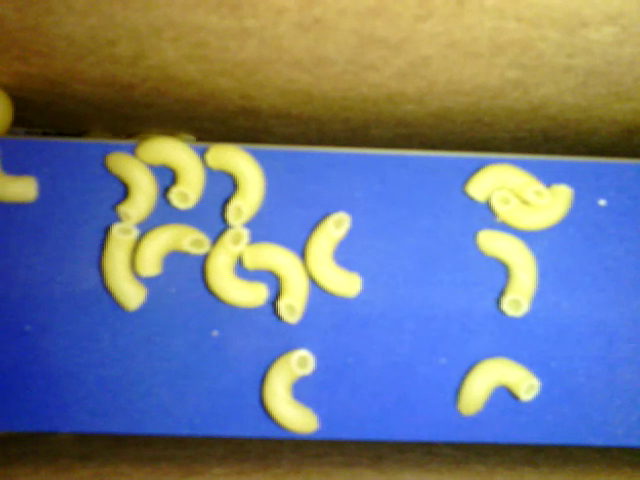elbow: (474, 226, 539, 321), (241, 241, 310, 329), (203, 226, 271, 312), (455, 354, 542, 418), (134, 135, 206, 211), (306, 209, 363, 303), (261, 347, 321, 436), (207, 141, 265, 227), (133, 223, 213, 281), (102, 222, 150, 316), (105, 151, 160, 226), (489, 185, 576, 229), (461, 161, 551, 203), (1, 171, 40, 204)
